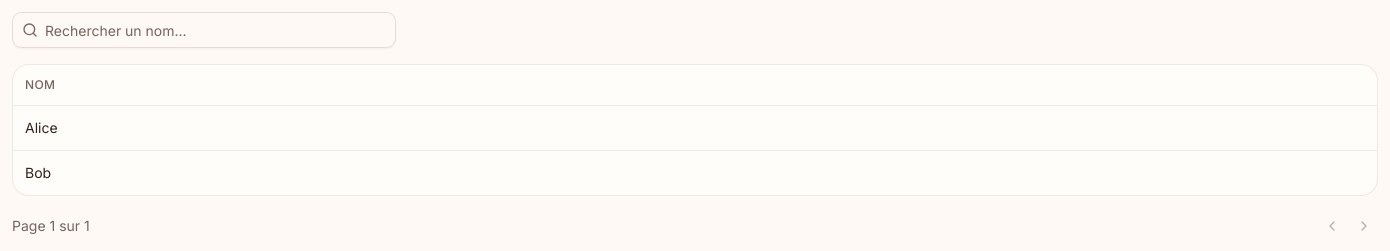
Test: DataTable › filters rows by the search key
Step 1. Type "alice" into the field with placeholder "Rechercher un nom..." → (204, 30), box x1=12 y1=12 x2=396 y2=48
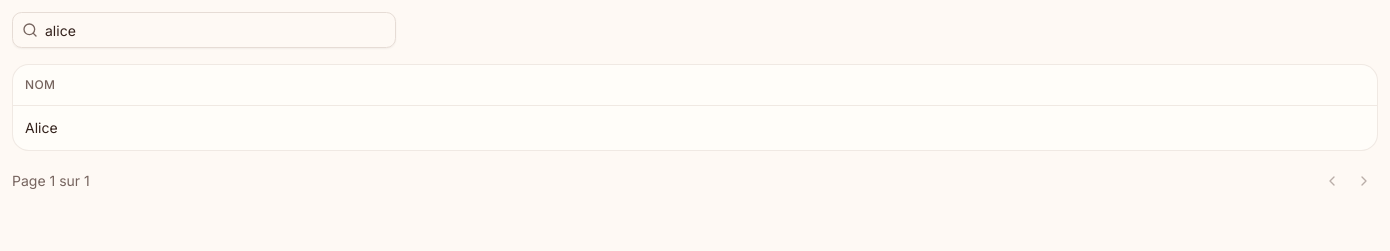
Expected: the text "Alice" is shown, x1=13 y1=105 x2=1377 y2=150
Now the text "Bob" is gone
